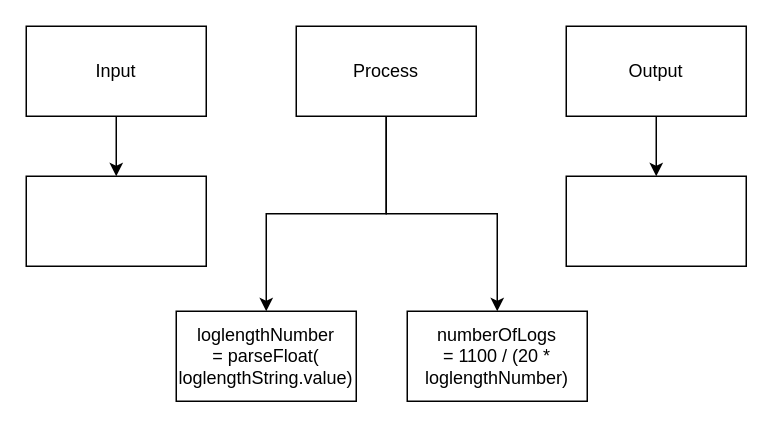
This 773x428 diagram has some shape labels left out. The shapes that lost their labels are listed below. From the top down, each one's box as (x1, y1, x2, y2) in pixels, then its label:
(25, 175, 206, 266): Get loglengthNumber
(565, 175, 746, 266): Print ${numberOfLogs}
